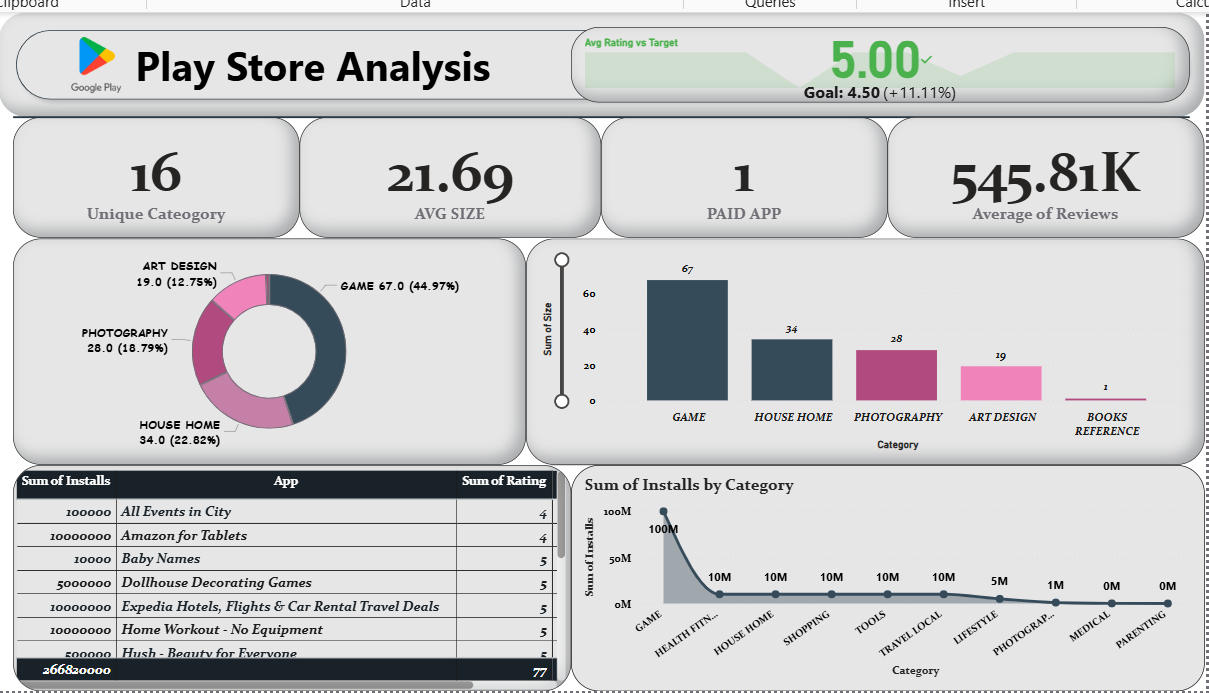

The dashboard page shown, as its layout file describes it:
{"tool":"powerbi","page":{"name":"PLAY STORE DASHBOARD MODIFY","canvas":[1280,720],"ordinal":5},"visuals":[{"type":"shape","box":[0,0,1280,112],"z":0},{"type":"image","box":[16,16,176,80],"z":1000},{"type":"card","fields":{"Values":["googleplaystore.Unique Cateogory"]},"box":[16,112,304,128],"z":2000},{"type":"card","fields":{"Values":["googleplaystore.AVG SIZE"]},"box":[320,112,320,128],"z":3000},{"type":"card","fields":{"Values":["Play Store Analysis.PAID APP"]},"box":[640,112,304,128],"z":4000},{"type":"columnChart","fields":{"Category":["Play Store Analysis.Category"],"Y":["Sum(Play Store Analysis.Size)"]},"box":[560,240,720,240],"z":6000},{"type":"shape","box":[16,80,1248,64],"z":7000},{"type":"donutChart","fields":{"Category":["Play Store Analysis.Category"],"Y":["Sum(Play Store Analysis.Size)"]},"box":[16,240,544,240],"z":8000},{"type":"card","fields":{"Values":["Avg(Play Store Analysis.Reviews)"]},"box":[944,112,336,128],"z":9000},{"type":"lineChart","fields":{"Category":["Play Store Analysis.Category"],"Y":["Sum(Play Store Analysis.Installs)"]},"box":[608,480,672,240],"z":10000},{"type":"kpi","title":"Avg Rating vs Target","fields":{"Goal":["Play Store Analysis.Target Rating"],"TrendLine":["Play Store Analysis.Last Updated"],"Indicator":["Play Store Analysis.AVG RATING"]},"box":[608,16,656,80],"z":11000},{"type":"tableEx","fields":{"Values":["Sum(Play Store Analysis.Installs)","Play Store Analysis.App","Sum(Play Store Analysis.Rating)","Sum(Play Store Analysis.Reviews)"]},"box":[16,480,592,240],"z":11001}]}

Visuals, with their boxes on the page's 1280x720 design canvas (x1, y1, x2, y2). These are canvas units, not pixel positions in the 1209x693 screenshot, which may show the page scaled, cropped or inside an application window:
shape: (0,0,1280,112)
image: (16,16,192,96)
card - googleplaystore.Unique Cateogory: (16,112,320,240)
card - googleplaystore.AVG SIZE: (320,112,640,240)
card - Play Store Analysis.PAID APP: (640,112,944,240)
columnChart - Play Store Analysis.Category x Sum(Play Store Analysis.Size): (560,240,1280,480)
shape: (16,80,1264,144)
donutChart - Play Store Analysis.Category x Sum(Play Store Analysis.Size): (16,240,560,480)
card - Avg(Play Store Analysis.Reviews): (944,112,1280,240)
lineChart - Play Store Analysis.Category x Sum(Play Store Analysis.Installs): (608,480,1280,720)
"Avg Rating vs Target" kpi: (608,16,1264,96)
tableEx - Sum(Play Store Analysis.Installs) x Play Store Analysis.App: (16,480,608,720)
